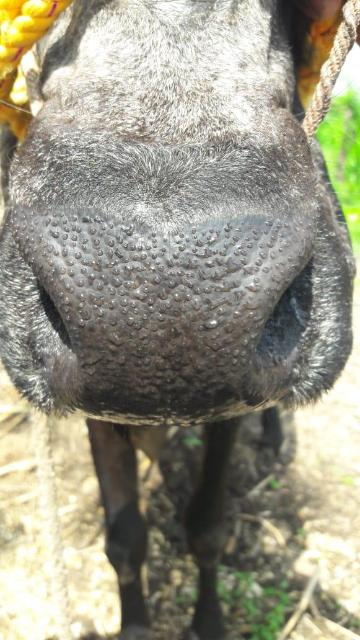Muzzle: (15, 222, 271, 410)
